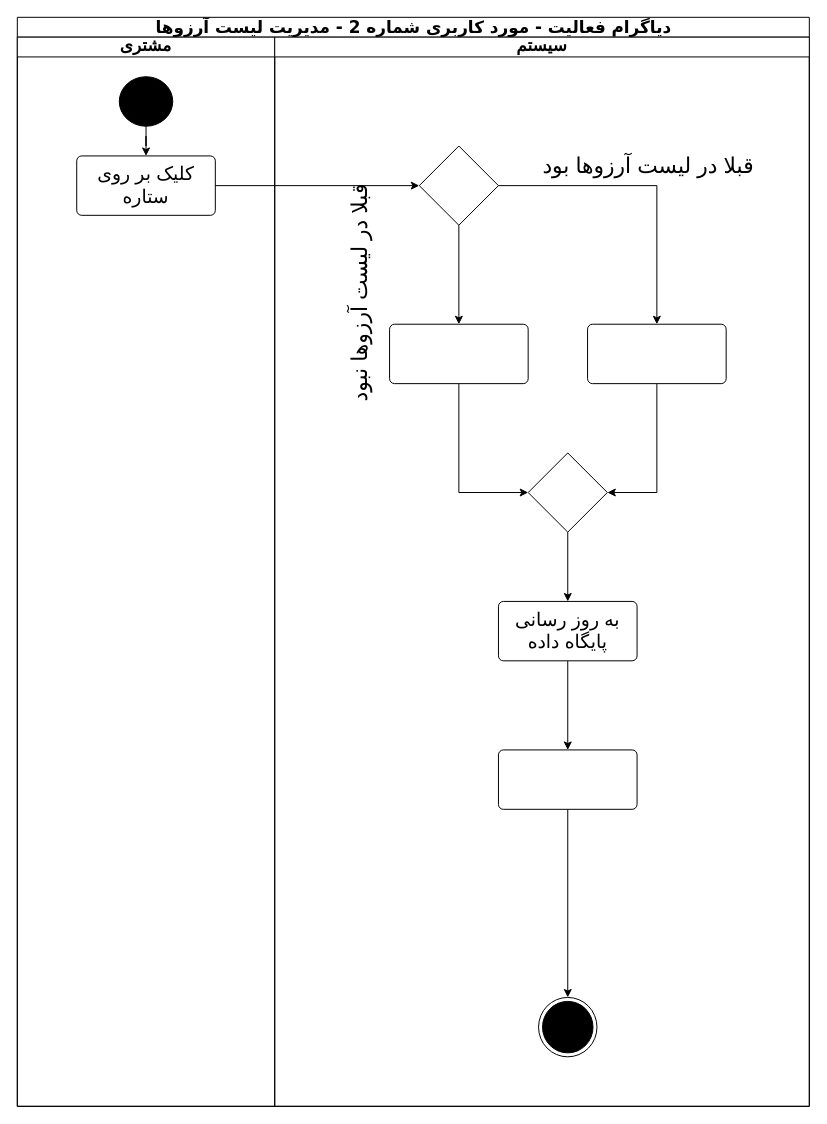
This 827x1124 diagram has some shape labels left out. Here are the shapes that lost their labels. From the top down, the centre of each, then its label:
pixel 458 353: آضافه کردن کالا به لیست آرزوها
pixel 656 353: حذف کردن کالا از لیست آرزوها
pixel 567 779: چاپ پیام مناسب
